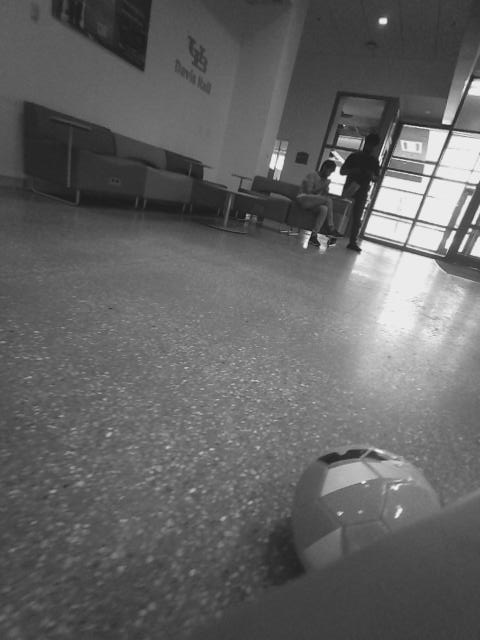ball: (297, 270, 350, 316)
